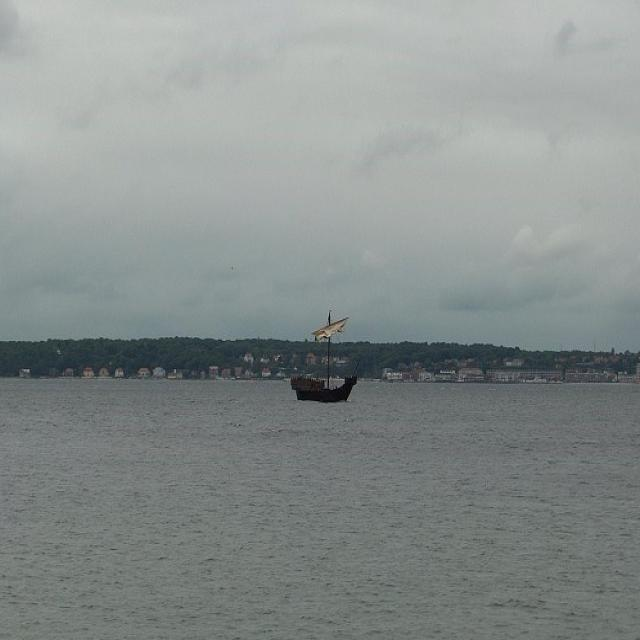fishing boat: (283, 310, 364, 406)
